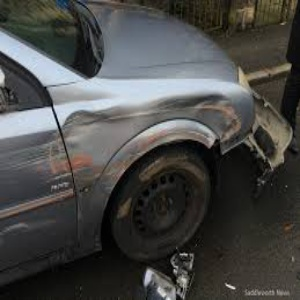door_scratch: (2, 133, 131, 169)
